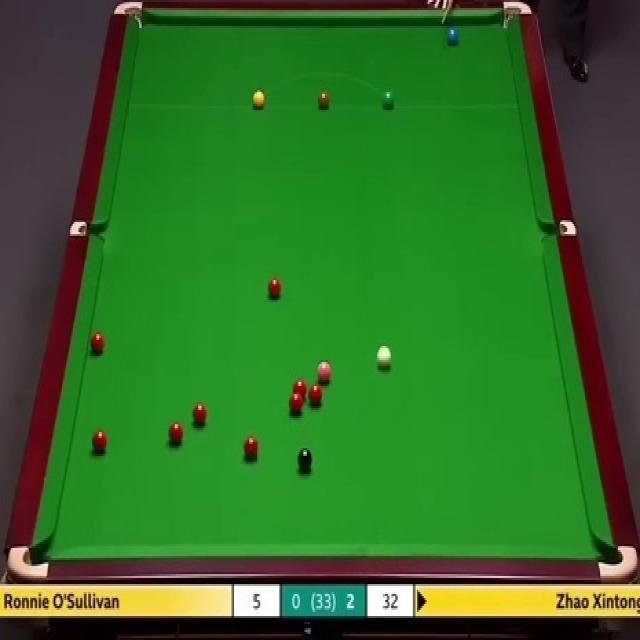pocket: (594, 542, 637, 583), (9, 545, 51, 583), (111, 0, 144, 35), (537, 218, 578, 240), (502, 2, 531, 30), (71, 222, 106, 236)
